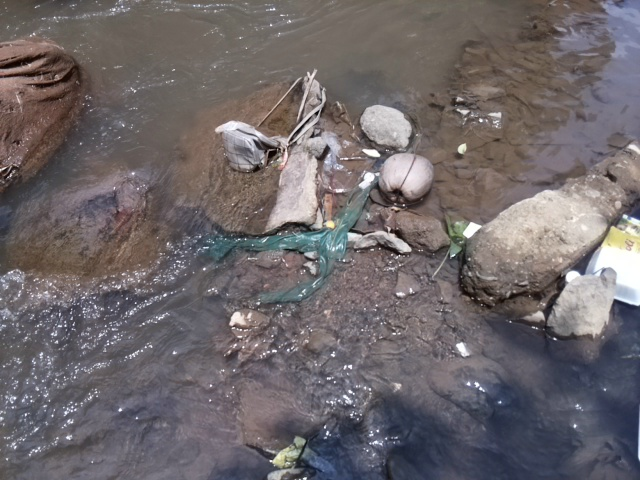Sampah_Styrofoam: (587, 242, 640, 309)
